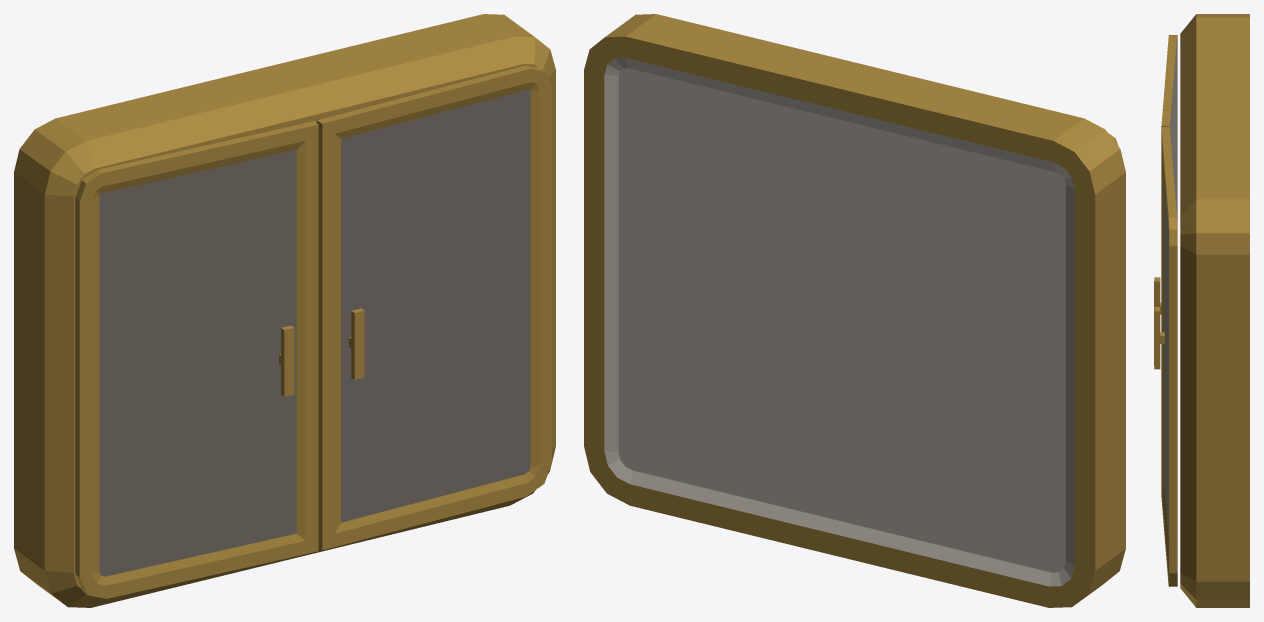
The model's file is mirror-cabinet-3cb9fd.glb.
3 renders of one model, left to right at view 1: azimuth 30°, elevation 25°; view 2: azimuth 150°, elevation 25°; view 3: azimuth 270°, elevation 25°, orthographic. The views are drawn at different scales.
Visible parts, largest first — view 1: door-l, door-r, mirror-cabinet; view 2: mirror-cabinet; view 3: mirror-cabinet, door-r, door-l.
Boxes of the visible parts, <box> form: door-l: <box>75,121,318,598</box>; door-r: <box>317,65,551,550</box>; mirror-cabinet: <box>14,14,555,607</box>; mirror-cabinet: <box>584,14,1125,607</box>; mirror-cabinet: <box>1180,14,1249,607</box>; door-r: <box>1154,127,1177,586</box>; door-l: <box>1154,35,1177,314</box>.
Size of the model in its own units: 0.8 by 0.7 by 0.1494.
